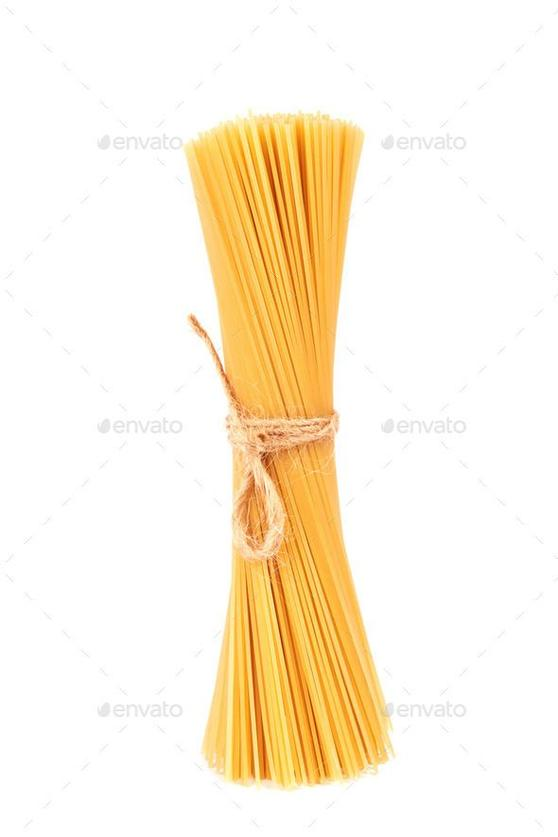spaghetti: (183, 110, 395, 786)
